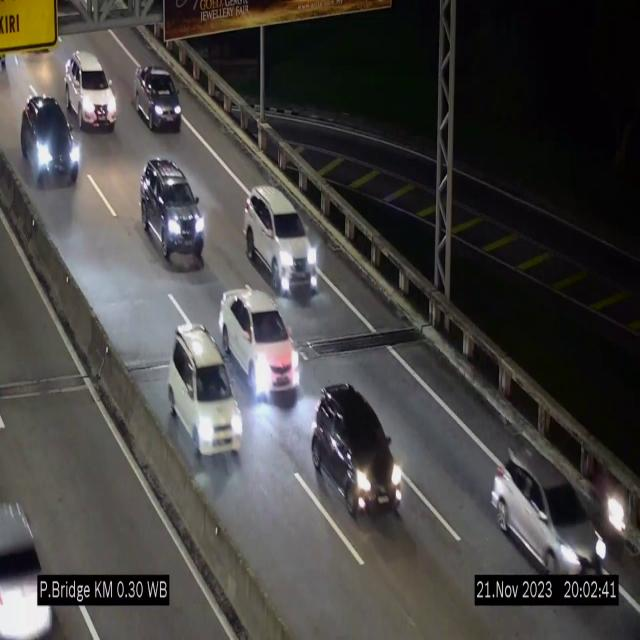Car: (492, 436, 606, 580), (306, 384, 403, 522), (0, 454, 69, 640), (169, 326, 242, 458), (218, 289, 300, 396), (244, 186, 319, 295), (141, 156, 205, 266), (22, 94, 78, 191), (65, 52, 117, 130), (134, 65, 182, 131)
Motorcycle: (587, 448, 627, 549)
